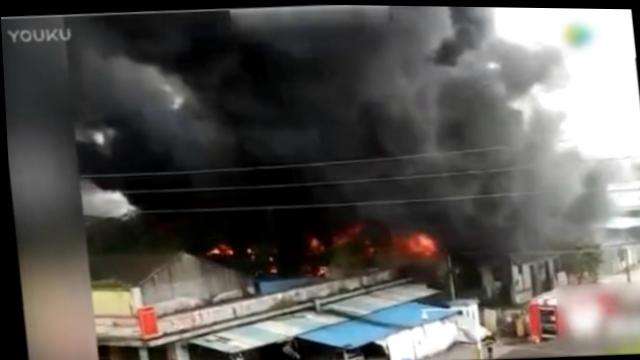fire: (388, 230, 435, 257)
